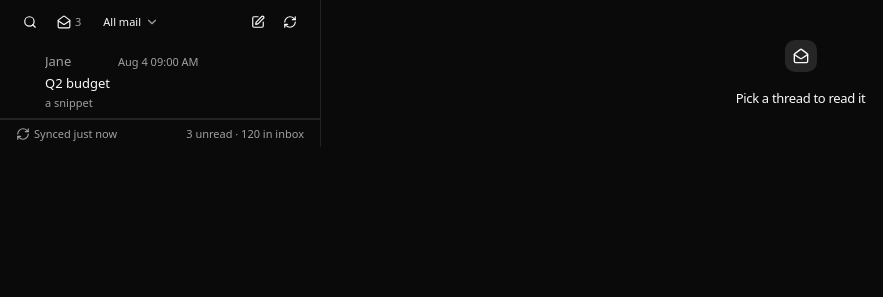
Scenario: lets the user look at Promotions
Step 1. Click the button with aria-label "choose a mailbox" → (131, 22), box left=94, top=10, right=168, bottom=34
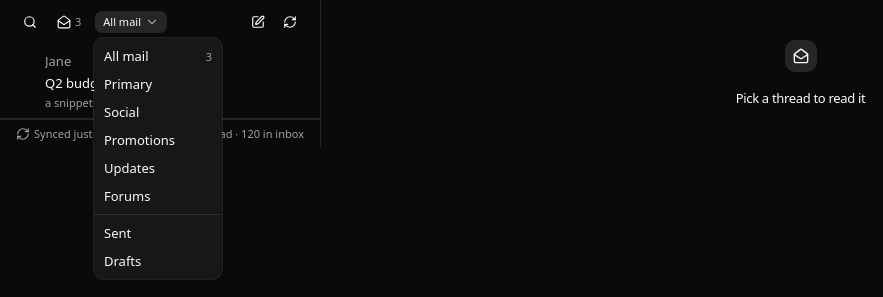
Step 2. Click the menu item "Promotions" → (140, 140), box left=104, top=131, right=175, bottom=149
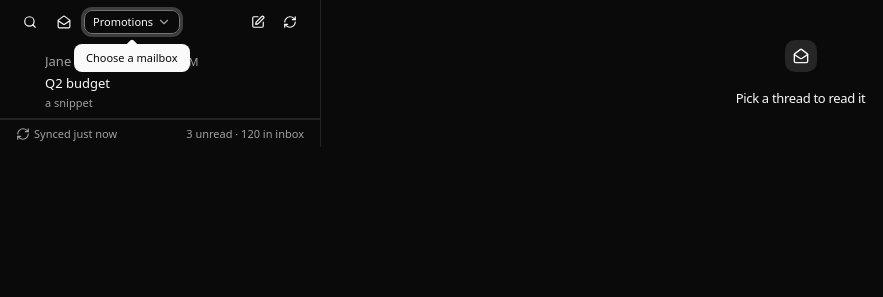
Expected: the menu is gone
